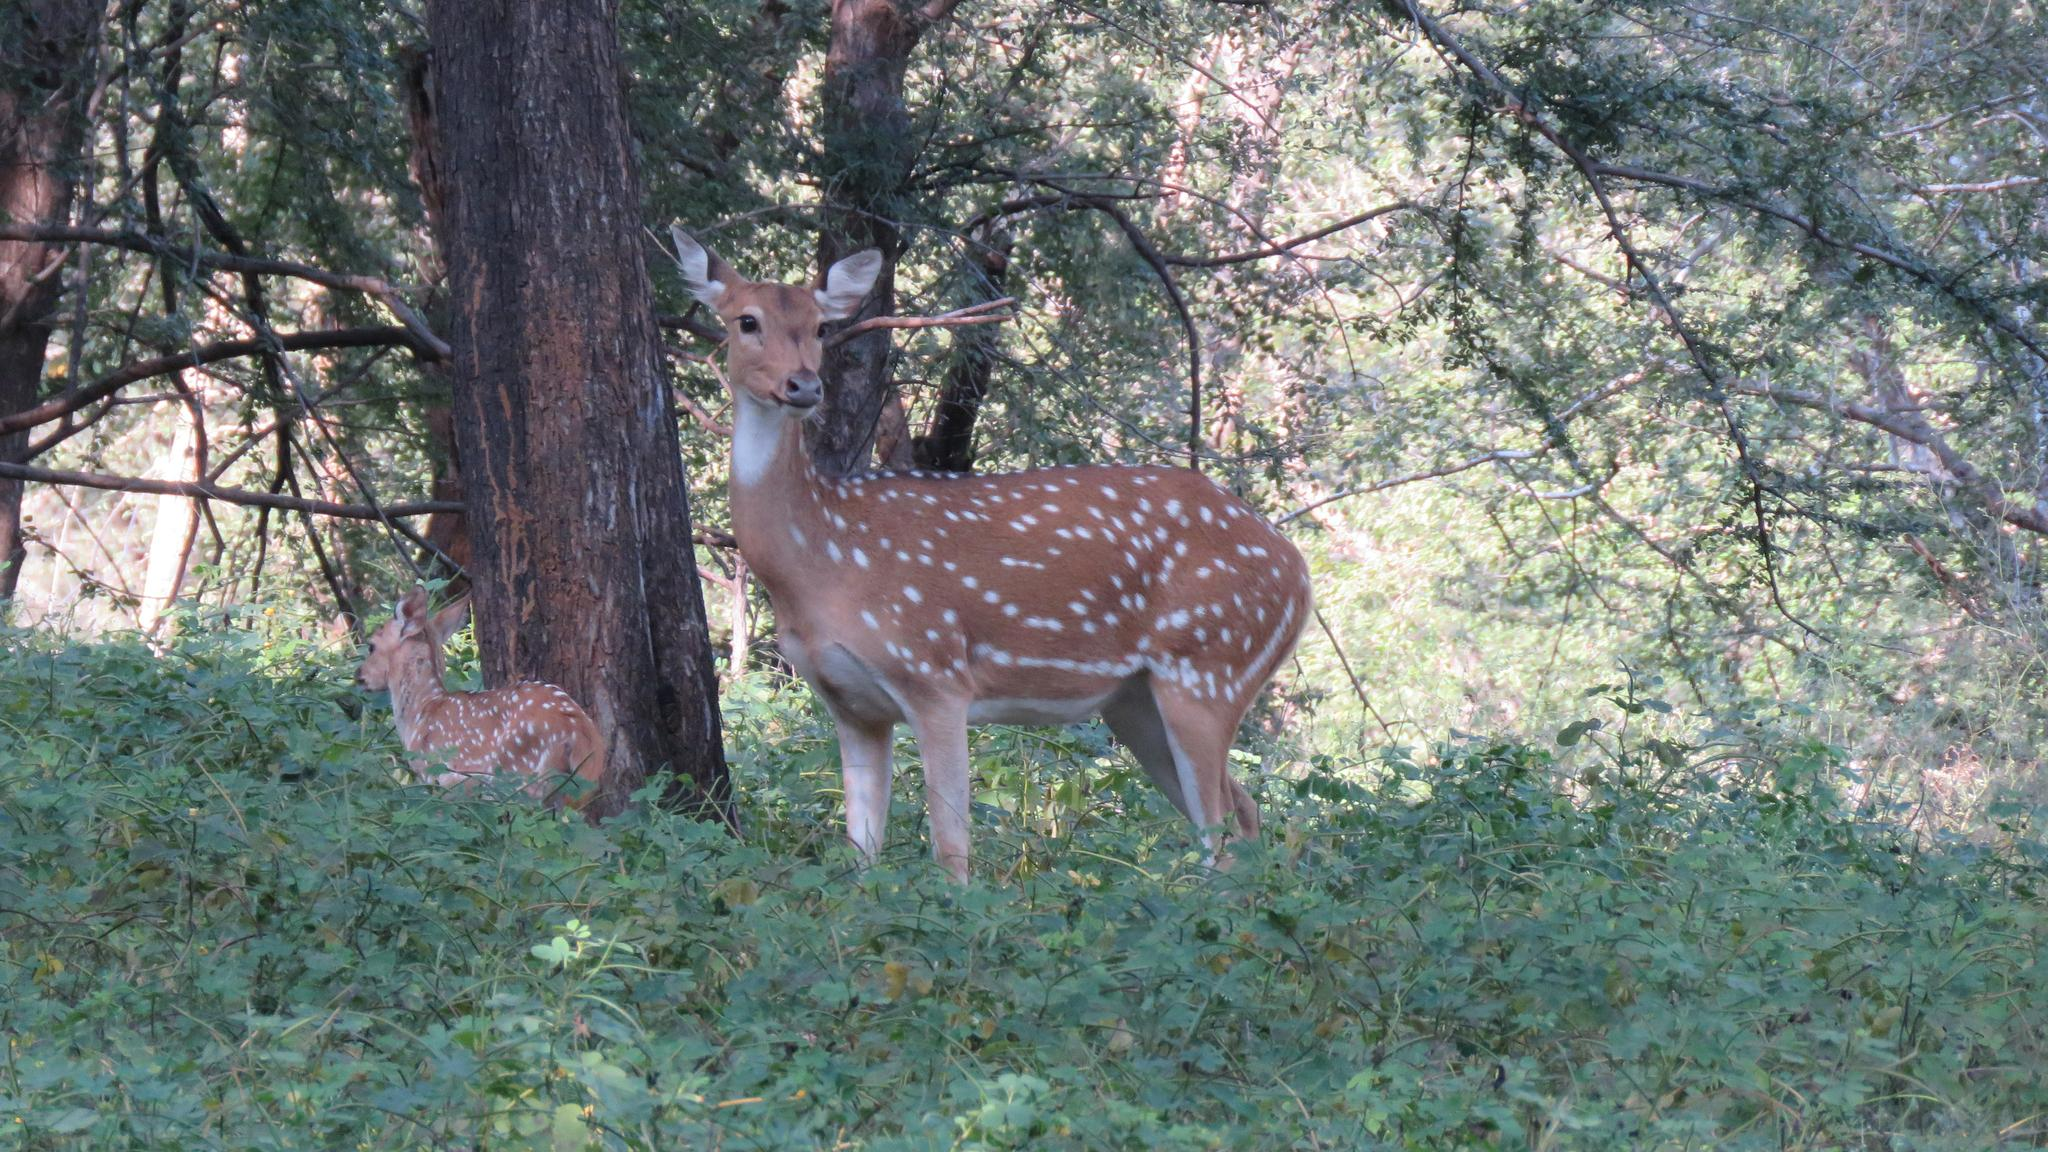Deer: (672, 228, 1311, 881), (357, 584, 608, 786)
